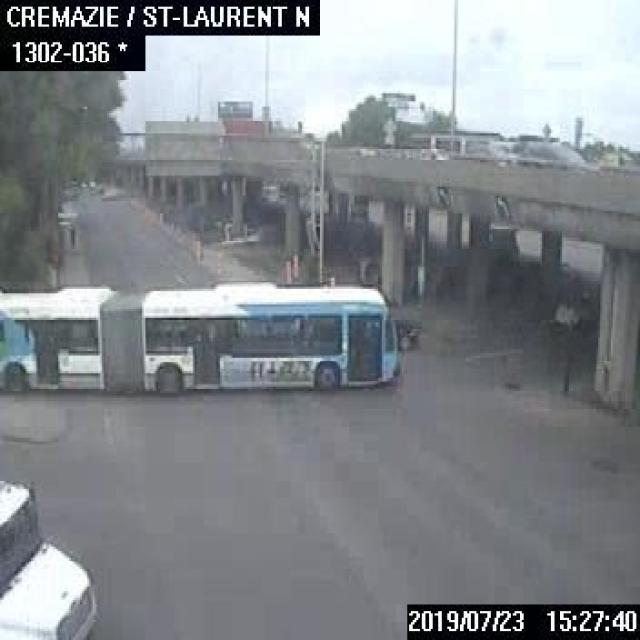bus: (0, 280, 398, 393)
pedestrian: (66, 221, 75, 246)
vehicle: (0, 473, 102, 638), (515, 138, 588, 169), (388, 314, 422, 351)
